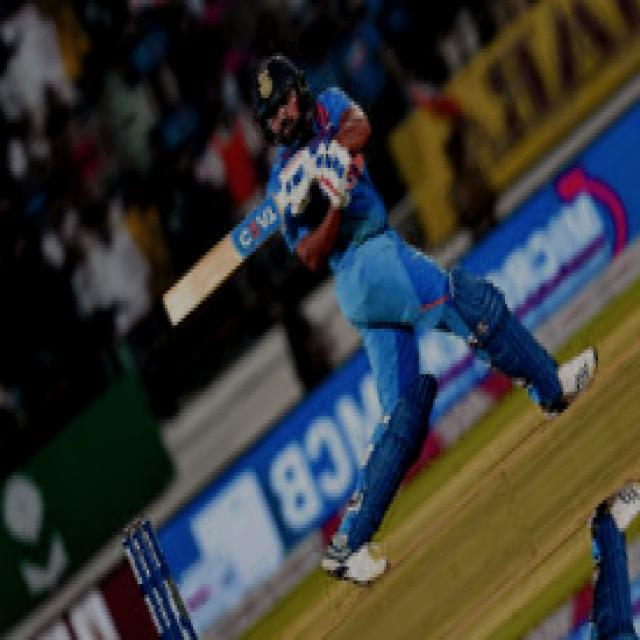toe: (155, 285, 190, 333)
